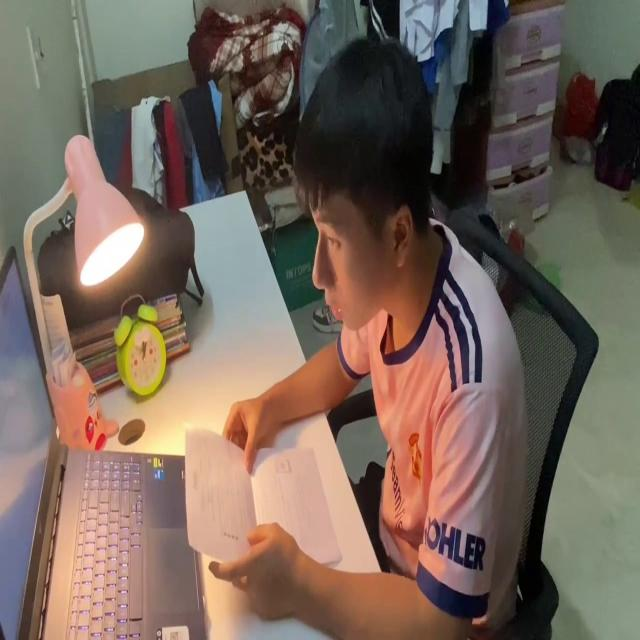book: (180, 419, 341, 573)
laptop: (1, 244, 208, 640)
student: (211, 26, 525, 640)
